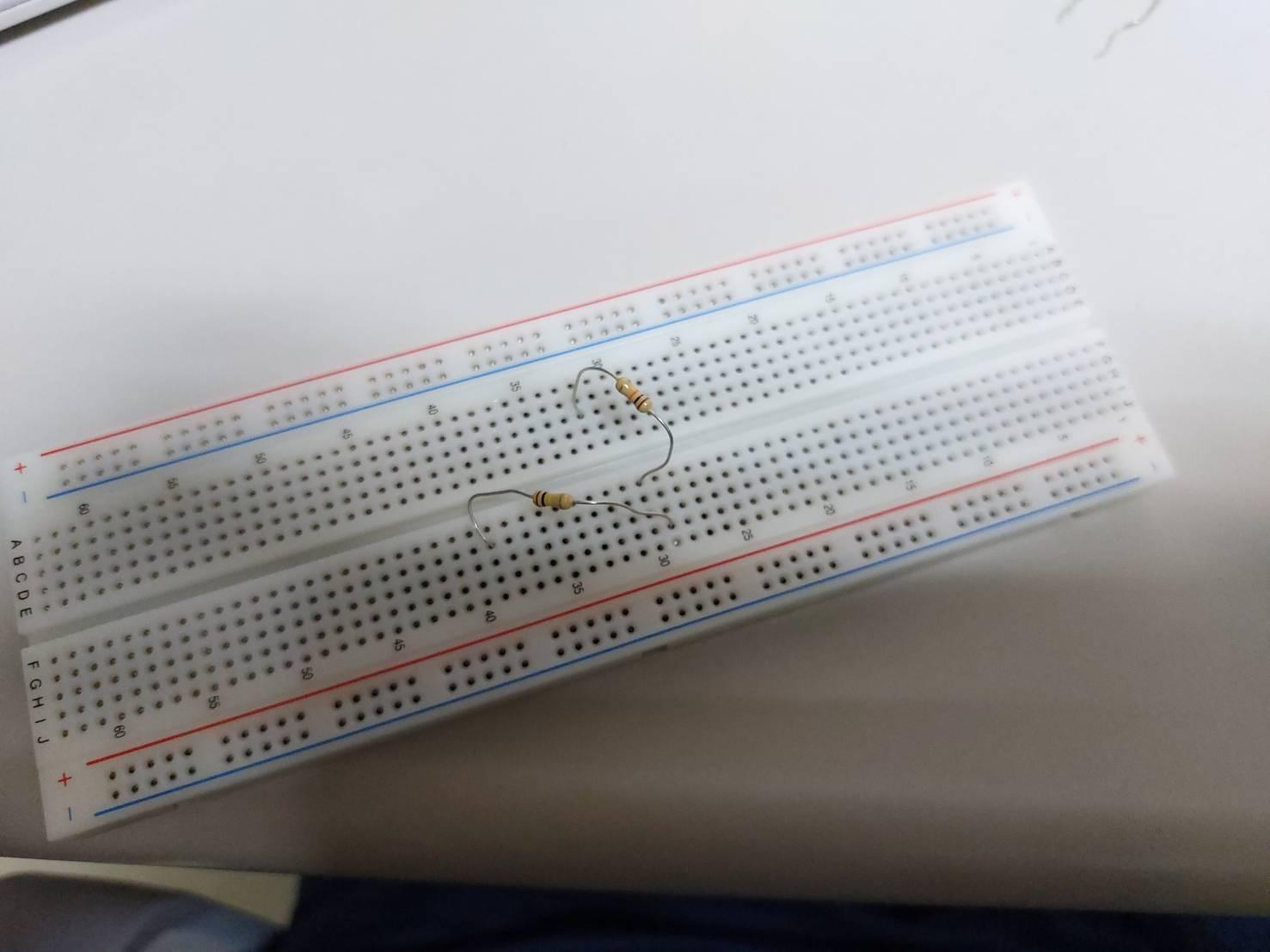resistor: (614, 376, 654, 414), (531, 489, 574, 510)
